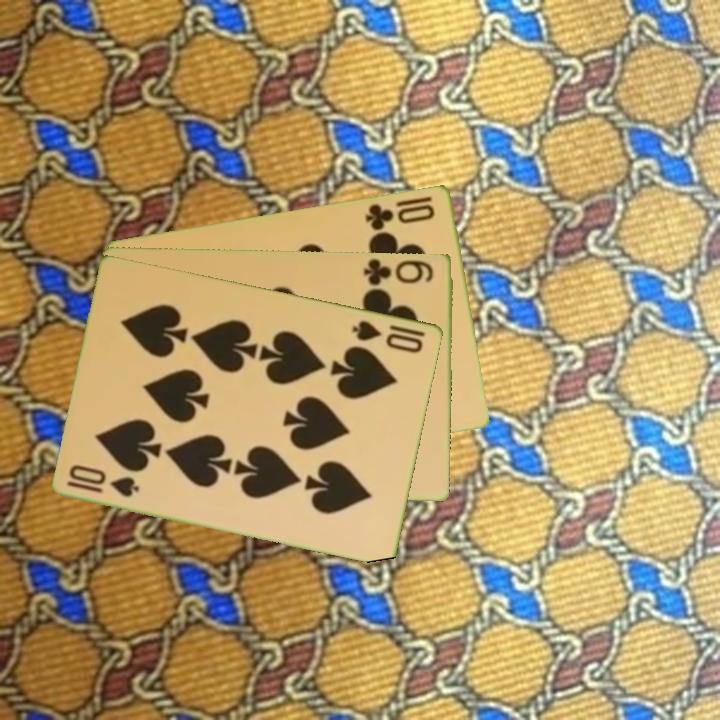10c: (362, 199, 438, 233)
10s: (349, 316, 427, 356), (64, 461, 143, 500)
6c: (361, 255, 437, 288)
